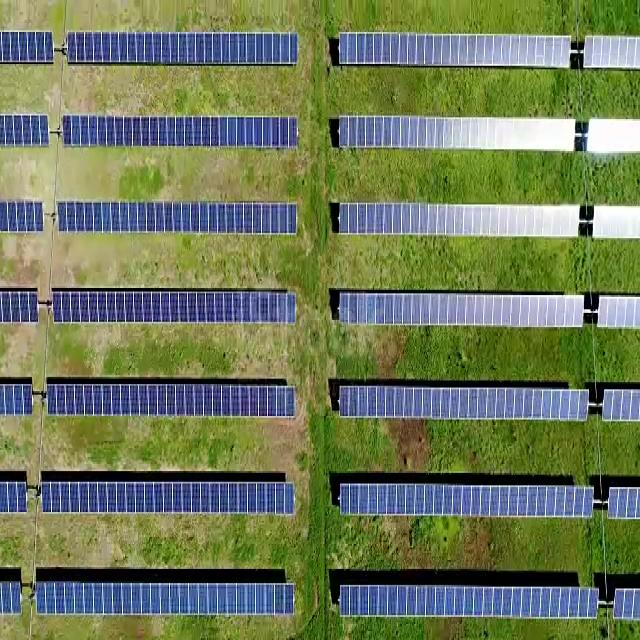Solar-panels: (44, 476, 297, 516), (40, 580, 296, 618), (340, 479, 596, 517), (342, 383, 592, 420), (341, 117, 576, 154), (341, 293, 587, 328), (341, 587, 598, 620), (340, 204, 583, 238), (342, 34, 569, 69), (47, 385, 295, 416), (68, 35, 299, 68), (63, 116, 300, 148), (55, 290, 295, 321), (56, 205, 298, 235)
